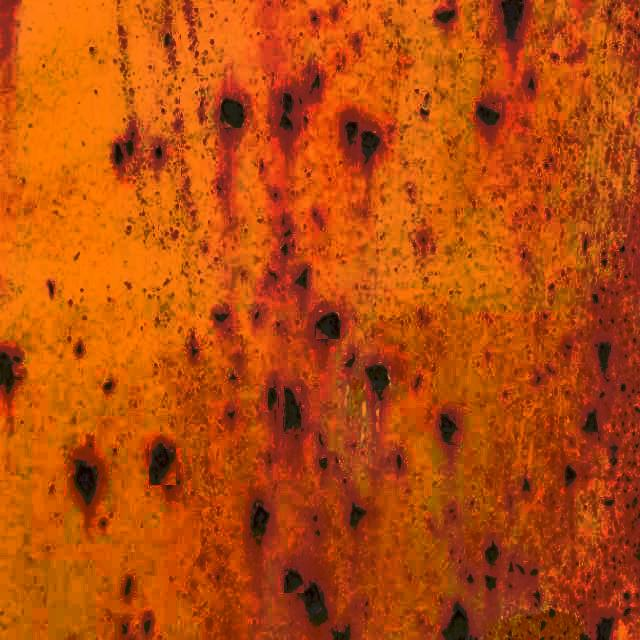Corrosion: (147, 442, 176, 486), (283, 388, 301, 432), (443, 609, 467, 640), (366, 366, 389, 398), (74, 463, 95, 498), (304, 585, 325, 620), (220, 98, 243, 128), (502, 0, 522, 34), (316, 313, 340, 339), (251, 505, 268, 534), (283, 571, 303, 594), (440, 415, 457, 442), (0, 353, 13, 388), (477, 103, 500, 122), (361, 130, 379, 152), (599, 344, 611, 370), (597, 620, 612, 640), (584, 412, 599, 432), (351, 505, 365, 526), (485, 543, 498, 564), (436, 8, 455, 22), (295, 268, 307, 288), (345, 121, 356, 140), (267, 388, 277, 408), (142, 614, 151, 636), (282, 92, 292, 110), (113, 143, 122, 162), (279, 113, 292, 126), (566, 467, 577, 482), (213, 312, 228, 322), (345, 353, 355, 368), (333, 631, 349, 640), (310, 73, 319, 88), (123, 578, 130, 596), (486, 578, 496, 590), (225, 408, 235, 420), (125, 140, 133, 154), (318, 458, 327, 470), (396, 455, 403, 470), (280, 243, 288, 256), (154, 146, 162, 158), (318, 433, 324, 448), (120, 624, 127, 636), (48, 281, 53, 296), (103, 382, 111, 390), (75, 344, 81, 354), (229, 373, 237, 380), (253, 311, 258, 320), (311, 14, 317, 20)
